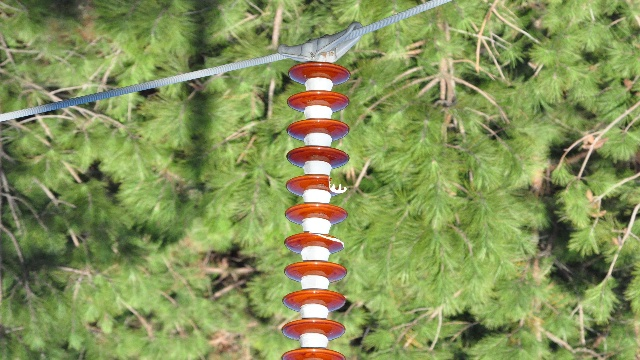broken_local: (323, 173, 346, 195)
insulator_unspecified: (283, 63, 352, 359)
